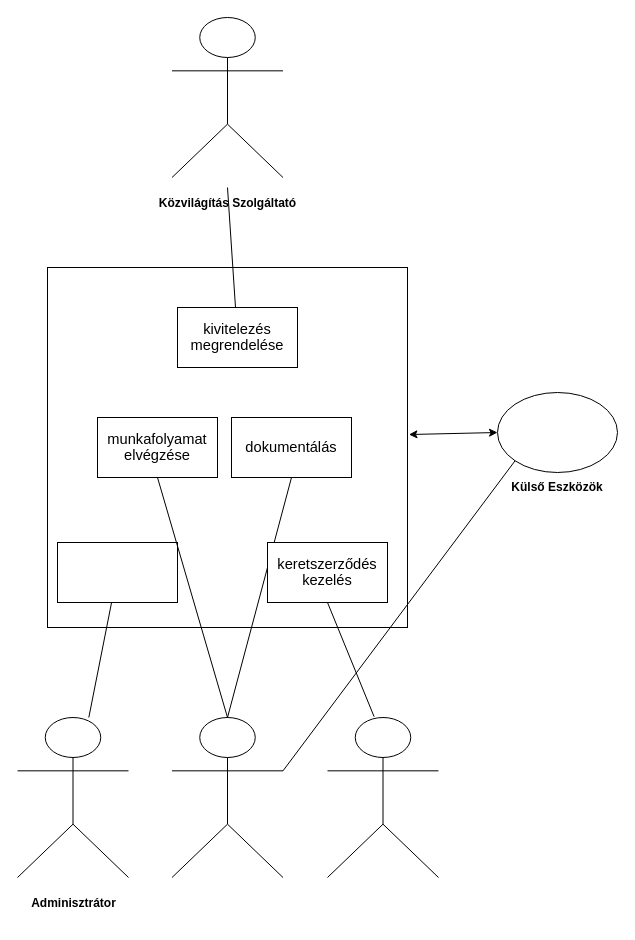
Some shapes in this 635 by 940 pixel diagram are drawn without their labels. Here are the shapes that lost their labels. From the top down, the centre of each, then its label:
At point (117, 572): "Törzsadat kezelés".
At point (227, 797): "Csapatok".
At point (382, 797): "Vállalkozás Vezetősége".
